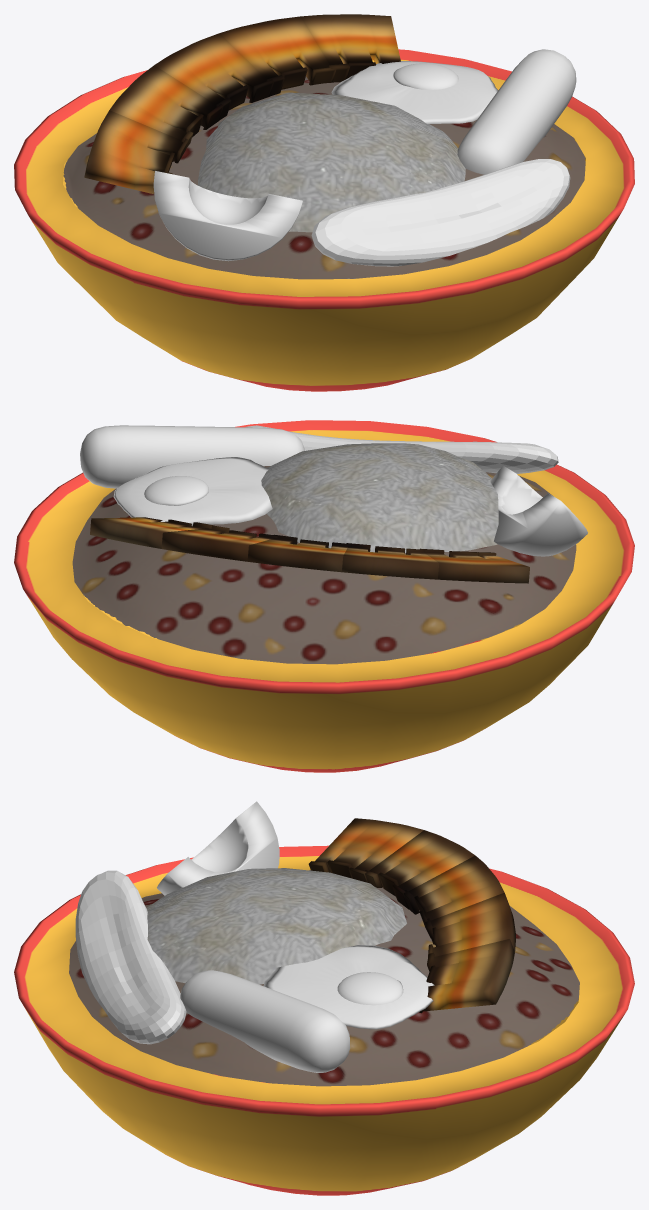
The model's file is BandejaPaisa.fbx.
3 renders of one model, top to bottom at view 1: azimuth 30°, elevation 25°; view 2: azimuth 150°, elevation 25°; view 3: azimuth 270°, elevation 25°, orthographic.
Visible parts, largest first — view 1: Aguacate.002; view 2: Aguacate.002; view 3: Aguacate.002.
Boxes of the visible parts, x1,y1,x2,y2 form: Aguacate.002: (14,14,634,391); Aguacate.002: (14,420,634,772); Aguacate.002: (14,801,634,1195).
Size of the model in its own units: 583 by 252 by 583.
Materials: 7 (3 with a texture image).
